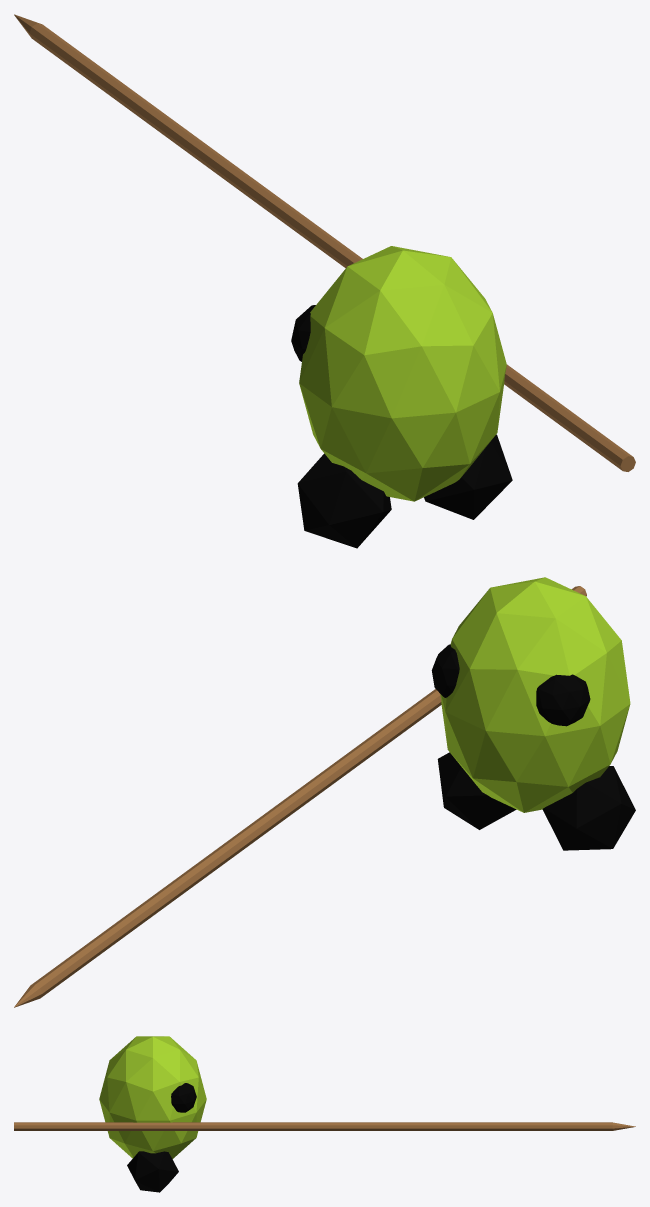
Rendered from stab.f0006.glb.
3 views of the same model, one above another, from view 1: azimuth 30°, elevation 25°; view 2: azimuth 150°, elevation 25°; view 3: azimuth 270°, elevation 25° (orthographic). The views are drawn at different scales.
Visible parts, largest first — view 1: Body.001; view 2: Body.001; view 3: Body.001.
Part boxes in pixels (x1=…): Body.001: x1=14, y1=14, x2=635, y2=548; Body.001: x1=14, y1=577, x2=635, y2=1007; Body.001: x1=14, y1=1036, x2=635, y2=1192.
Bounding box in the file's own units: 2.17 × 2.85 × 11.56.
1 material, 1 textured.
